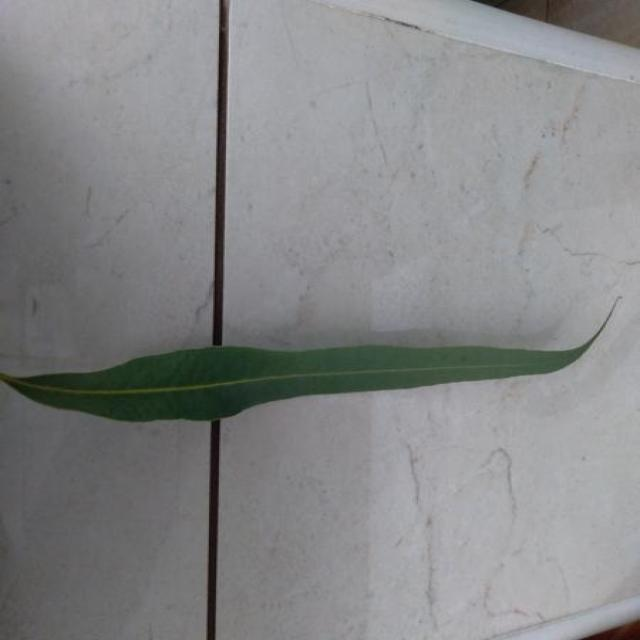eucalpytus: (2, 302, 617, 421)
